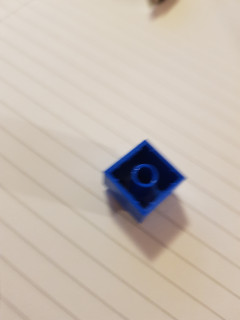2x2 blue: (98, 137, 189, 225)
